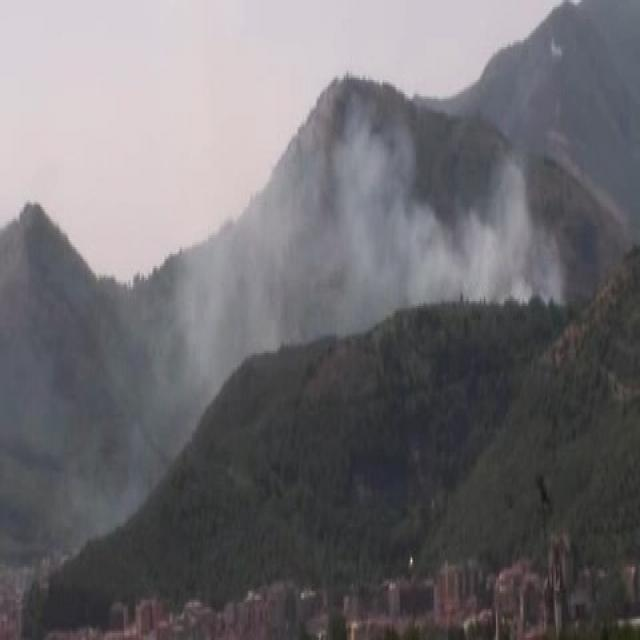smoke: (323, 92, 547, 316)
